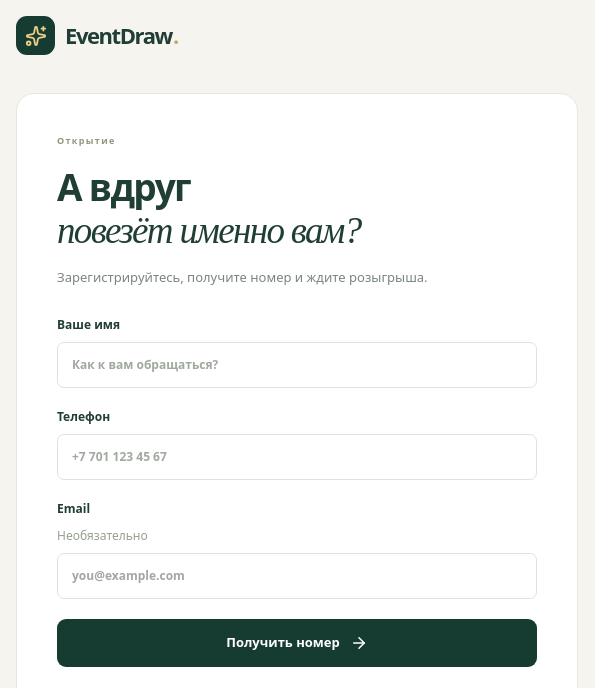
public registration › duplicate registration displays the original ticket
The width and height of the screenshot is (595, 688).
Type "Дана" into the field labelled "Ваше имя" at (297, 365), box [57,342,537,388]
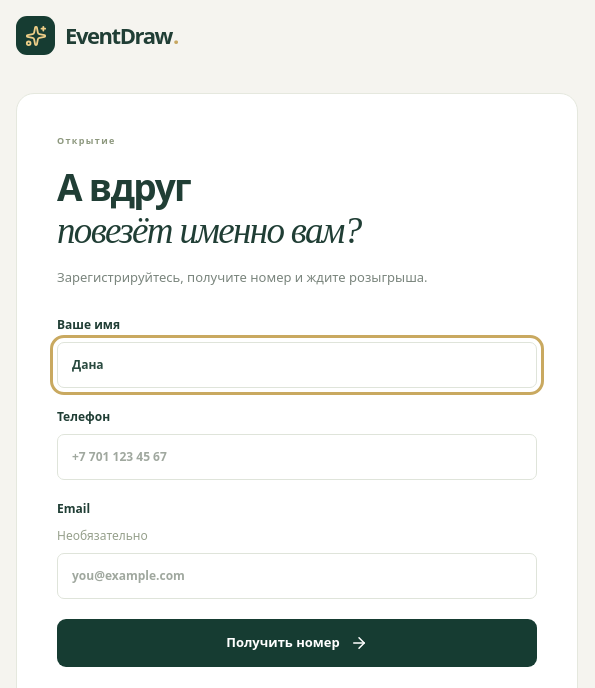
Type "+77011234567" into the field labelled "Телефон" at (297, 457), box [57,434,537,480]
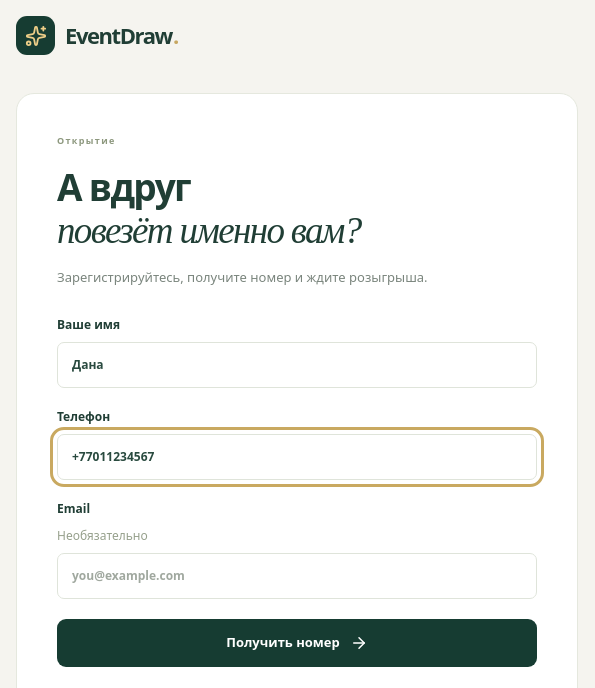
Click the button "Получить номер" at (297, 643), box [57,619,537,667]
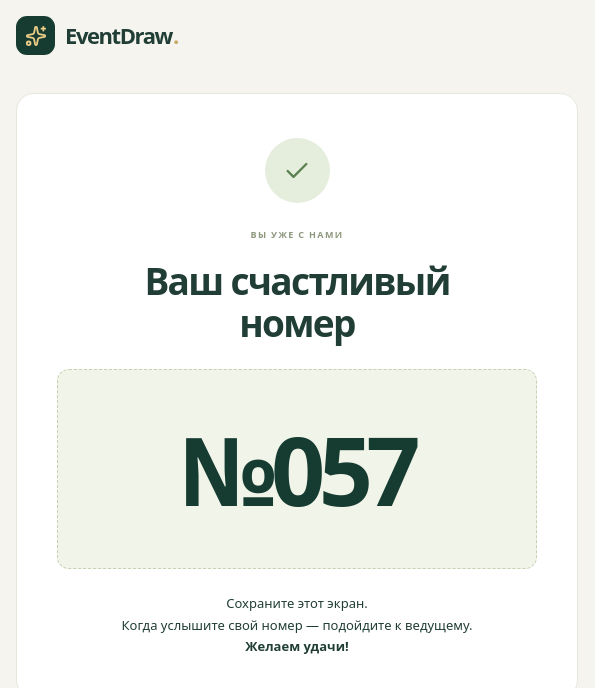
Now the text "№057" is shown, box [57,369,537,569]
Now the text "ВЫ УЖЕ С НАМИ" is shown, box [250,228,344,241]
